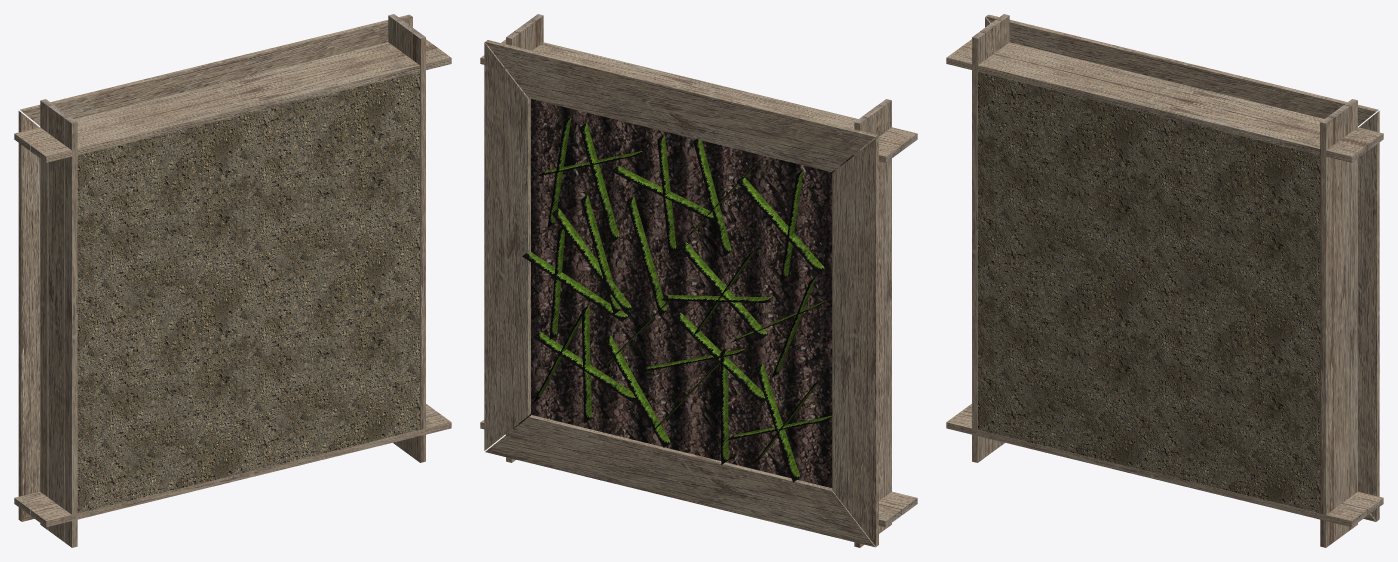
File: sprite-young.dae
3 renders of one model, left to right at view 1: azimuth 30°, elevation 25°; view 2: azimuth 150°, elevation 25°; view 3: azimuth 330°, elevation 25°, orthographic.
Parts seen in each view (by area): view 1: dirt, plank_06_Cube_009, top_2_Cube_022, top_3_Cube_021, plank_04_Cube_006, plank_07_Cube_010, plank_03_Cube_004, plank_01_Cube_02, plank_05_Cube_007, plank_08_Cube_011, plank_09_Cube_013, plank_02_Cube_03; view 2: dirt, top_2_Cube_022, top_3_Cube_021, top_4_Cube_023, top_1_Cube_016, plank_06_Cube_009, plank_03_Cube_004, plank_04_Cube_006, Cube_019_Cube_072, Cube_033_Cube_062, Cube_016_Cube_045, Cube_009_Cube_067 (+18 smaller); view 3: dirt, plank_06_Cube_009, top_4_Cube_023, top_3_Cube_021, plank_09_Cube_013, plank_07_Cube_010, plank_08_Cube_011, plank_01_Cube_02, plank_10_Cube_014, plank_03_Cube_004, plank_04_Cube_006, plank_02_Cube_03.
Boxes of the visible parts, x1,y1,x2,y2 form: dirt: (77,71,419,513); plank_06_Cube_009: (30,46,451,162); top_2_Cube_022: (18,111,40,521); top_3_Cube_021: (20,14,412,125); plank_04_Cube_006: (48,105,69,541); plank_07_Cube_010: (14,39,435,150); plank_03_Cube_004: (64,117,77,547); plank_01_Cube_02: (30,411,451,527); plank_05_Cube_007: (40,99,53,529); plank_08_Cube_011: (412,32,425,462); plank_09_Cube_013: (396,20,417,456); plank_02_Cube_03: (14,404,435,515); dirt: (512,99,853,487); top_2_Cube_022: (832,136,878,546); top_3_Cube_021: (485,40,877,171); top_4_Cube_023: (484,42,530,450); top_1_Cube_016: (485,415,875,547); plank_06_Cube_009: (501,39,917,150); plank_03_Cube_004: (878,99,891,529); plank_04_Cube_006: (862,105,883,533); Cube_019_Cube_072: (603,335,670,447); Cube_033_Cube_062: (736,176,825,273); Cube_016_Cube_045: (679,242,767,339); Cube_009_Cube_067: (755,363,800,482); dirt: (978,71,1320,513); plank_06_Cube_009: (946,46,1367,162); top_4_Cube_023: (1358,111,1379,520); top_3_Cube_021: (986,14,1378,125); plank_09_Cube_013: (1328,105,1349,541); plank_07_Cube_010: (962,39,1383,150); plank_08_Cube_011: (1320,117,1333,547); plank_01_Cube_02: (946,411,1367,527); plank_10_Cube_014: (1344,99,1357,529); plank_03_Cube_004: (972,32,985,462); plank_04_Cube_006: (980,20,1001,456); plank_02_Cube_03: (962,404,1383,515).
Bounding box in the file's own units: 3.68 × 0.6108 × 3.68.
4 materials, 4 textured.
